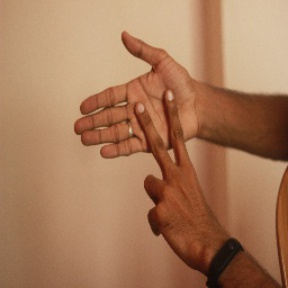N: (70, 27, 218, 198)
